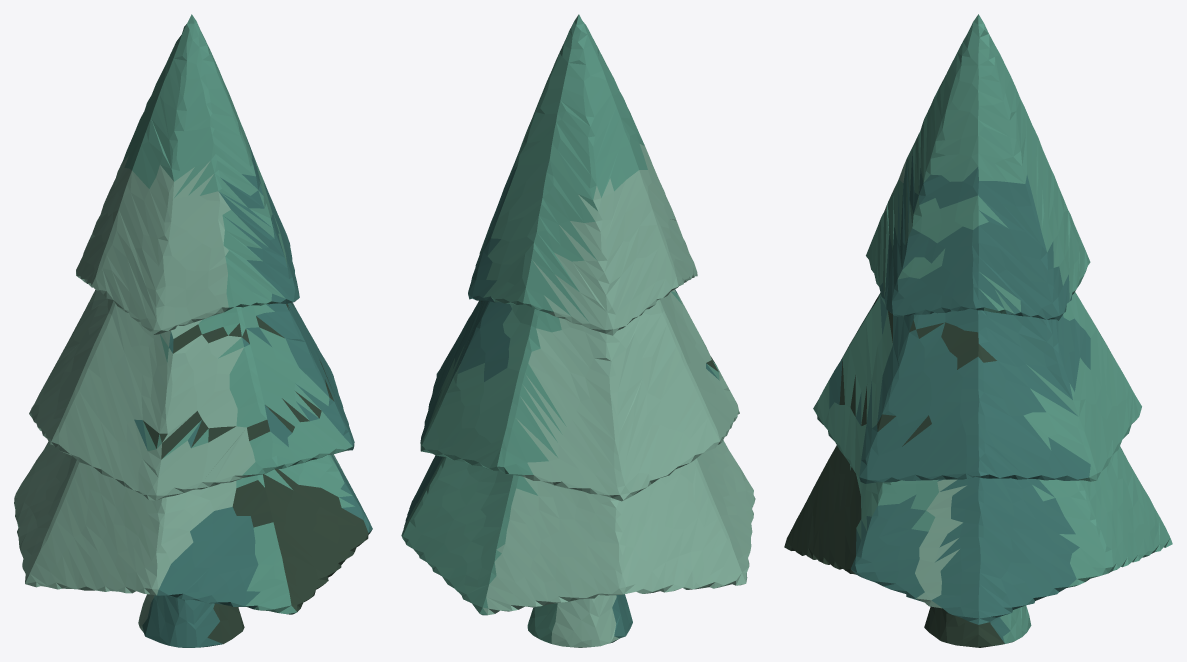
Rendered from teal_pine.glb.
The picture shows the model from 3 angles, left to right: view 1: azimuth 30°, elevation 25°; view 2: azimuth 150°, elevation 25°; view 3: azimuth 270°, elevation 25°; orthographic projection.
Visible parts, largest first — view 1: geometry_0; view 2: geometry_0; view 3: geometry_0.
Boxes of the visible parts, box(x1,y1,x2,y2) form: geometry_0: box(14, 14, 372, 647); geometry_0: box(401, 14, 755, 647); geometry_0: box(784, 14, 1172, 647).
Size of the model in its own units: 1.13 by 1.99 by 1.14.
